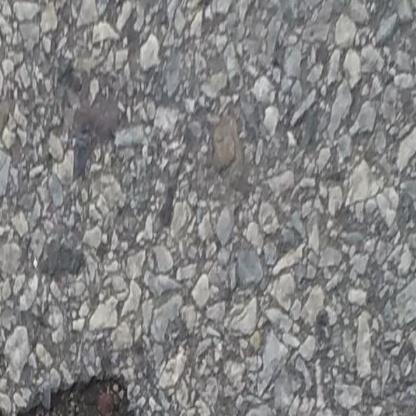Cracks: (0, 372, 206, 416)
